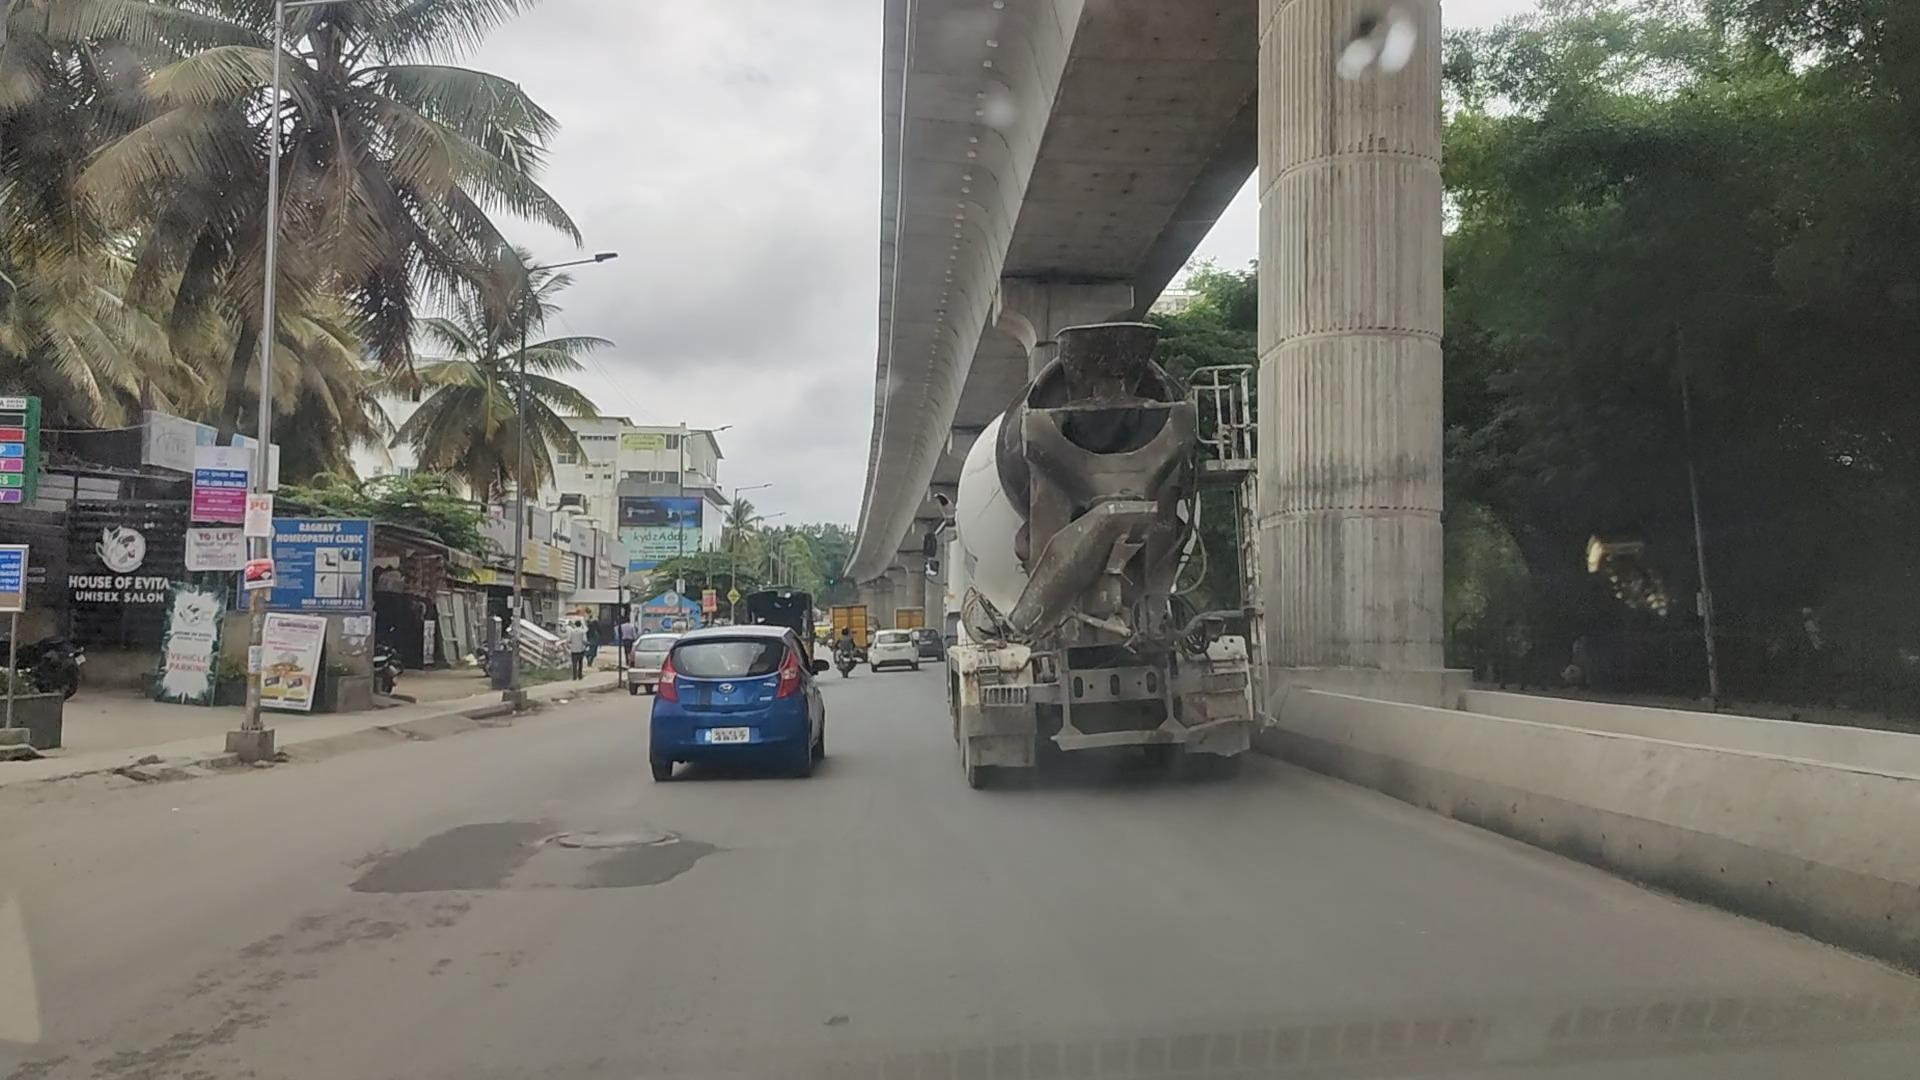HMV: (936, 322, 1244, 773)
LMV: (649, 632, 828, 785)
RoadDamages: (342, 822, 501, 895), (522, 818, 704, 862)
